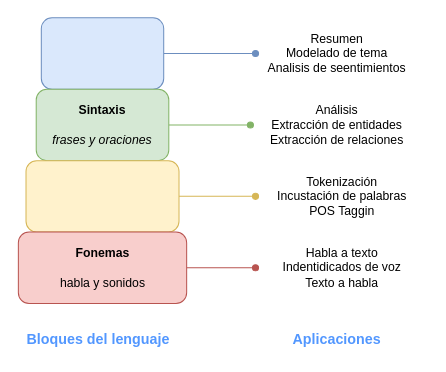
This 446x372 diagram has some shape labels left out. The box of each missing label's shape, as (x1, y1, x2, y2) in pixels:
Contexto significado: (40, 17, 164, 89)
Morfemas y Lexemas palabras: (25, 160, 179, 232)
